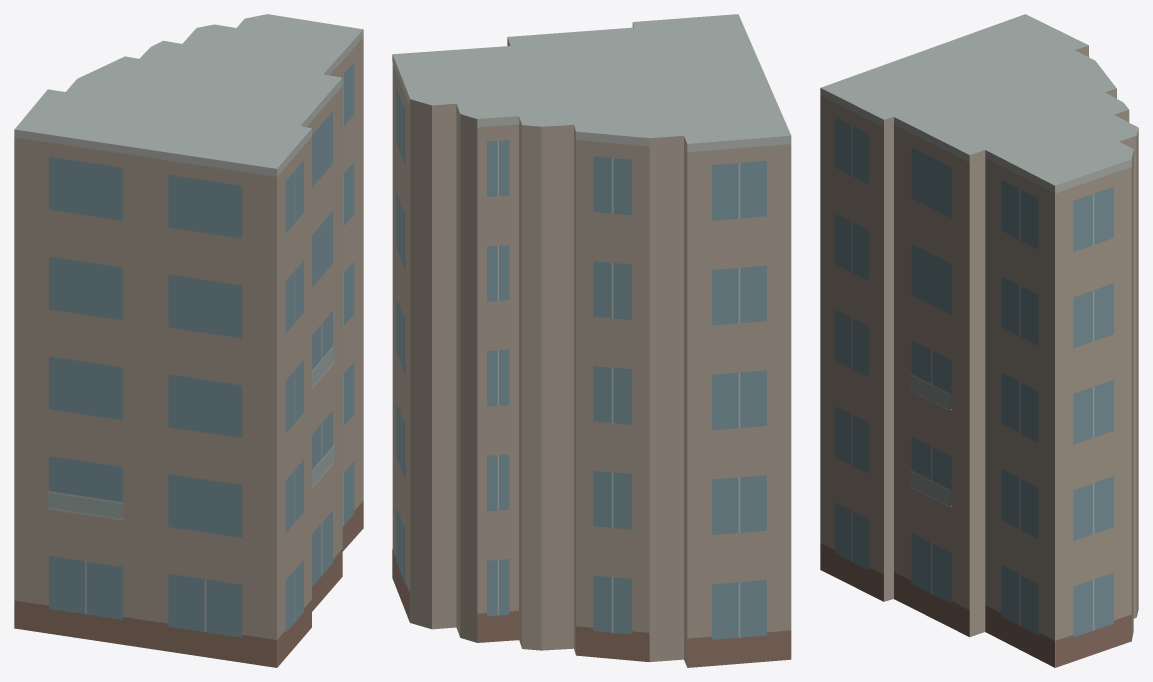
The model's file is survey-upis-32654789.glb.
3 renders of one model, left to right at view 1: azimuth 30°, elevation 25°; view 2: azimuth 150°, elevation 25°; view 3: azimuth 270°, elevation 25°, orthographic. The views are drawn at different scales.
Visible parts, largest first — view 1: survey-upis-32654789.tmp; view 2: survey-upis-32654789.tmp; view 3: survey-upis-32654789.tmp.
Part boxes in pixels (x1,y1,x2,y2): survey-upis-32654789.tmp: (14,14,363,667); survey-upis-32654789.tmp: (392,14,791,667); survey-upis-32654789.tmp: (820,14,1138,667).
Size of the model in its own units: 11.75 by 15.36 by 9.2.
